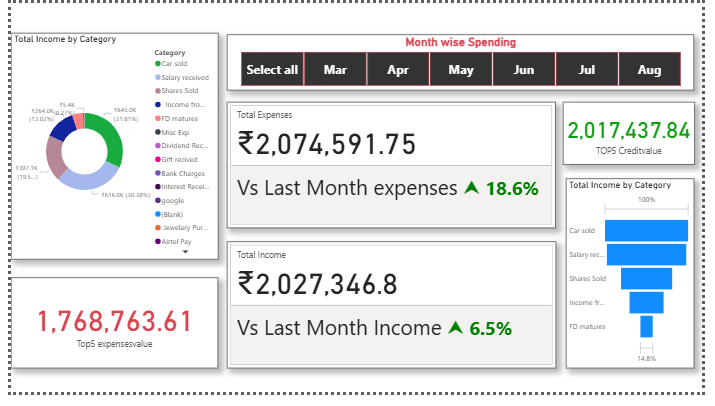

The dashboard page shown, as its layout file describes it:
{"tool":"powerbi","page":{"name":"Expenses  Vs Income 2","canvas":[1280,720],"ordinal":1},"visuals":[{"type":"donutChart","fields":{"Category":["Income.Category"],"Y":["_Measures.Total Income"]},"box":[0,56.9,384,419.6],"z":0},{"type":"card","fields":{"Values":["_Measures.Top5 expensesvalue"]},"box":[0,507.6,383.4,168.3],"z":1000},{"type":"cardVisual","fields":{"Data":["_Measures.Total Expenses"]},"box":[400,183.3,608.3,233.3],"z":2000},{"type":"slicer","title":"Month wise Spending","fields":{"Values":["calendar.Monthname"]},"box":[401,58.7,864.8,103.3],"z":2001},{"type":"cardVisual","fields":{"Data":["_Measures.Total Income"]},"box":[401,441.5,609.6,234.9],"z":2002},{"type":"card","fields":{"Values":["_Measures.TOP5 Creditvalue"]},"box":[1021.9,182.9,243.8,116.2],"z":2003},{"type":"funnel","fields":{"Category":["Income.Category"],"Y":["_Measures.Total Income"]},"box":[1028.6,324.8,237.1,351.4],"z":2004}]}

Visuals, with their boxes in screenshot pixels (x1, y1, x2, y2), scaled from the page's 1280x720 canvas onto the 715x406 screenshot:
donutChart - Income.Category x _Measures.Total Income: x1=0 y1=32 x2=214 y2=269
card - _Measures.Top5 expensesvalue: x1=0 y1=286 x2=214 y2=381
cardVisual - _Measures.Total Expenses: x1=223 y1=103 x2=563 y2=235
"Month wise Spending" slicer: x1=224 y1=33 x2=707 y2=91
cardVisual - _Measures.Total Income: x1=224 y1=249 x2=565 y2=381
card - _Measures.TOP5 Creditvalue: x1=571 y1=103 x2=707 y2=169
funnel - Income.Category x _Measures.Total Income: x1=575 y1=183 x2=707 y2=381
